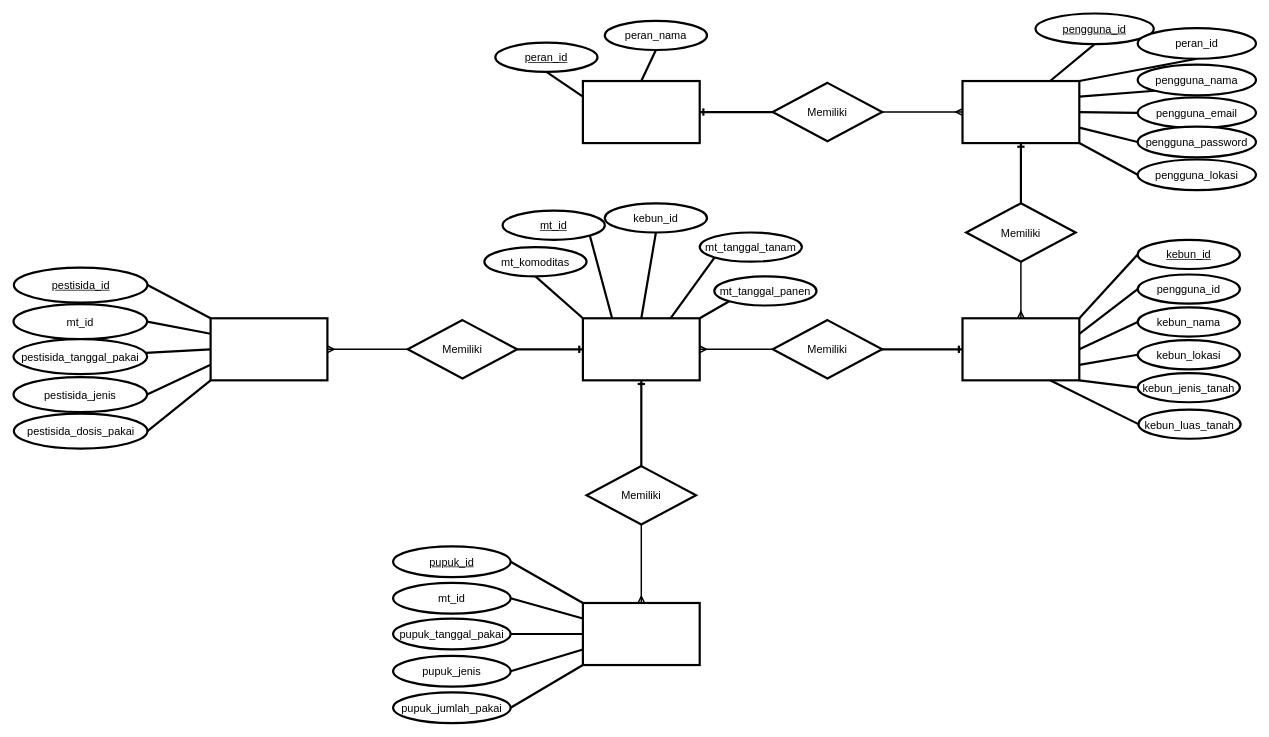
The diagram is 1269 pixels wide and 737 high, and some of its shapes have lost their labels. Each missing label, with the centre of its shape:
"Kebun" belongs at (x=1020, y=349).
"Musim_Tanam" belongs at (x=640, y=349).
"Pengguna" belongs at (x=1020, y=112).
"Peran" belongs at (x=640, y=112).
"Pestisida" belongs at (x=268, y=349).
"Pupuk" belongs at (x=640, y=634).
